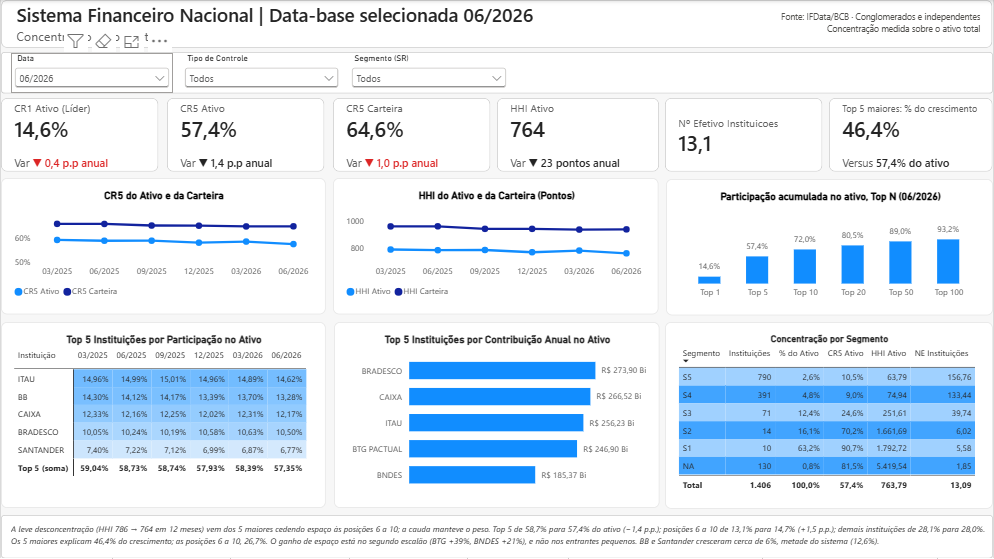

The page's visual inventory and layout, read from the dashboard file:
{"tool":"powerbi","page":{"name":"Concentração e Competição","canvas":[1280,720],"ordinal":1},"visuals":[{"type":"slicer","fields":{"Values":["dim_calendario.Rotulo"]},"box":[127.8,301.1,209.2,66.7],"z":0},{"type":"shape","box":[0,664,1280,56],"z":1000},{"type":"shape","box":[0,0,1279.1,61.8],"z":2000},{"type":"shape","box":[0,66.7,1280,53.6],"z":3000},{"type":"cardVisual","fields":{"Data":["_Medidas.Titulo Pagina"]},"box":[3.8,0,723.8,61.2],"z":4000},{"type":"textbox","box":[1695,30,213.8,46.2],"z":5000},{"type":"cardVisual","fields":{"Data":["_Medidas.CR1 Ativo"]},"box":[-0.1,126.5,203.9,95.5],"z":6000},{"type":"cardVisual","fields":{"Data":["_Medidas.CR5 Ativo"]},"box":[214.3,126.4,203.6,95.7],"z":7000},{"type":"cardVisual","fields":{"Data":["_Medidas.CR5 Carteira"]},"box":[428.4,126.5,203.9,95.5],"z":8000},{"type":"cardVisual","fields":{"Data":["_Medidas.HHI Ativo"]},"box":[640,126.4,209.3,95.7],"z":9000},{"type":"cardVisual","fields":{"Data":["_Medidas.Contribuicao Top5 Crescimento Ativo YoY"]},"box":[1068.9,126.7,211.1,95.6],"z":10000},{"type":"lineChart","title":"CR5 do Ativo e da Carteira","fields":{"Category":["dim_calendario.Rotulo"],"Y":["_Medidas.CR5 Ativo","_Medidas.CR5 Carteira"]},"box":[0,230,418.8,176.2],"z":11000},{"type":"lineChart","title":"HHI do Ativo e da Carteira (Pontos)","fields":{"Category":["dim_calendario.Rotulo"],"Y":["_Medidas.HHI Ativo","_Medidas.HHI Carteira"]},"box":[428.8,230,420,176.2],"z":12000},{"type":"pivotTable","title":"Top 5 Instituições por Participação no Ativo","fields":{"Columns":["dim_calendario.Rotulo"],"Rows":["dim_instituicao.Instituição"],"Values":["_Medidas.Share Ativo"]},"box":[0,415,418.8,240],"z":13000},{"type":"clusteredBarChart","title":"Top 5 Instituições por Contribuição Anual no Ativo","fields":{"Category":["dim_instituicao.Instituição"],"Y":["_Medidas.Ativo Total Var YoY (R$ bi)"]},"box":[430,416,420,240],"z":14000},{"type":"textbox","box":[12.9,674.3,1265.7,45.7],"z":15000},{"type":"textbox","box":[997.5,13.8,266.2,47.5],"z":16000},{"type":"cardVisual","fields":{"Data":["_Medidas.N Efetivo Instituicoes"]},"box":[856.8,126.5,203.3,95.6],"z":17000},{"type":"slicer","fields":{"Values":["fato_ifdata.Tipo de Controle"]},"box":[231.8,68.5,208.2,51.8],"z":18000},{"type":"slicer","fields":{"Values":["fato_ifdata.Segmento (SR)"]},"box":[447.3,68.5,209.1,51.8],"z":19000},{"type":"slicer","fields":{"Values":["dim_calendario.Rotulo"]},"box":[12.7,68.5,209.1,51.8],"z":20000},{"type":"clusteredColumnChart","fields":{"Category":["dim_topn.Rotulo"],"Y":["_Medidas.Share Top N"]},"box":[857.9,230.6,422.3,176],"z":21000},{"type":"tableEx","title":"Concentração por Segmento","fields":{"Values":["fato_ifdata.Segmento (SR)","_Medidas.Qtd Instituições","_Medidas.% do Total Ativo","_Medidas.CR5 Ativo","_Medidas.HHI Ativo","_Medidas.N Efetivo Instituicoes"]},"box":[857.4,415.3,422.6,240.6],"z":22000}]}

Visuals, with their boxes in screenshot pixels (x1, y1, x2, y2), scaled from the page's 1280x720 canvas onto the 994x559 screenshot:
slicer - dim_calendario.Rotulo: 99/234/262/286
shape: 0/516/993/558
shape: 0/0/993/48
shape: 0/52/993/93
cardVisual - _Medidas.Titulo Pagina: 3/0/565/48
cardVisual - _Medidas.CR1 Ativo: 0/98/158/172
cardVisual - _Medidas.CR5 Ativo: 166/98/325/172
cardVisual - _Medidas.CR5 Carteira: 333/98/491/172
cardVisual - _Medidas.HHI Ativo: 497/98/660/172
cardVisual - _Medidas.Contribuicao Top5 Crescimento Ativo YoY: 830/98/993/173
"CR5 do Ativo e da Carteira" lineChart: 0/179/325/315
"HHI do Ativo e da Carteira (Pontos)" lineChart: 333/179/659/315
"Top 5 Instituições por Participação no Ativo" pivotTable: 0/322/325/509
"Top 5 Instituições por Contribuição Anual no Ativo" clusteredBarChart: 334/323/660/509
textbox: 10/524/993/558
textbox: 775/11/981/48
cardVisual - _Medidas.N Efetivo Instituicoes: 665/98/823/172
slicer - fato_ifdata.Tipo de Controle: 180/53/342/93
slicer - fato_ifdata.Segmento (SR): 347/53/510/93
slicer - dim_calendario.Rotulo: 10/53/172/93
clusteredColumnChart - dim_topn.Rotulo x _Medidas.Share Top N: 666/179/993/316
"Concentração por Segmento" tableEx: 666/322/993/509
